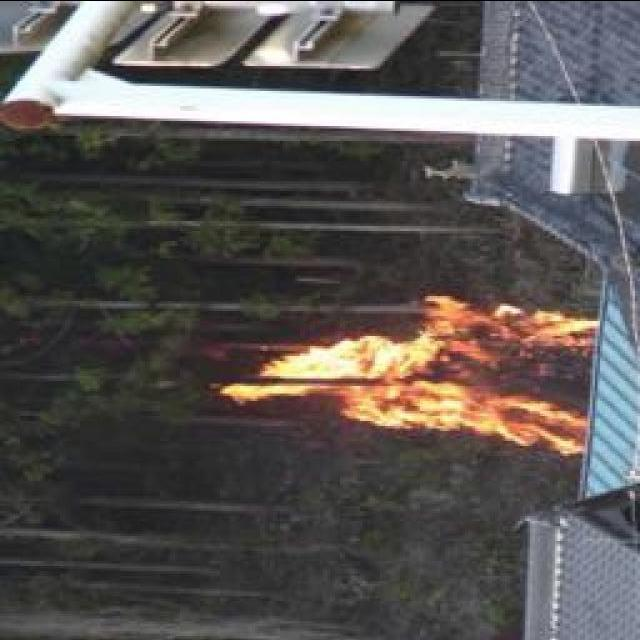Fire: (226, 298, 598, 451)
